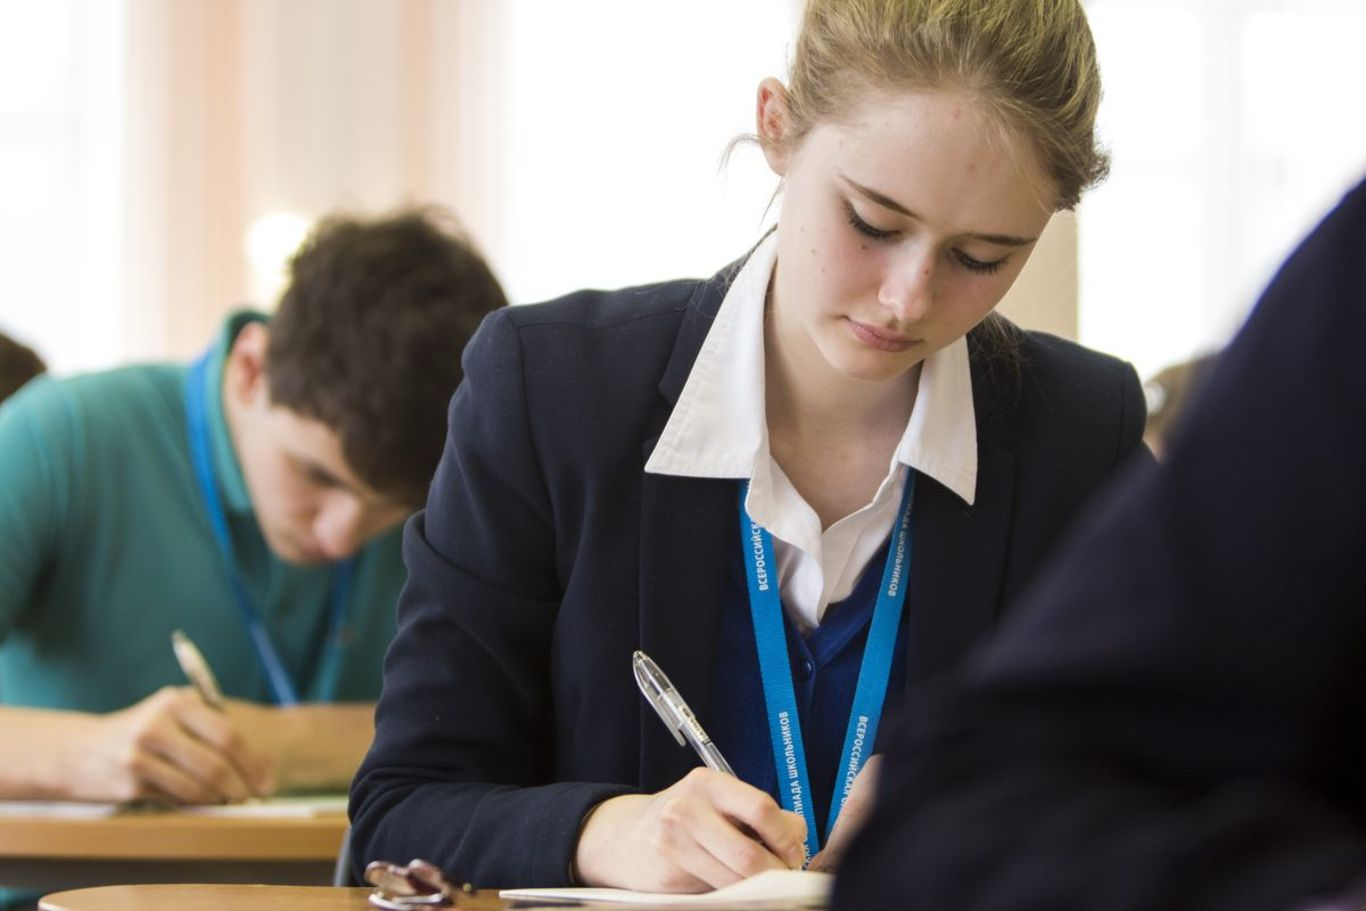students: (335, 1, 1148, 888), (3, 216, 510, 805)
